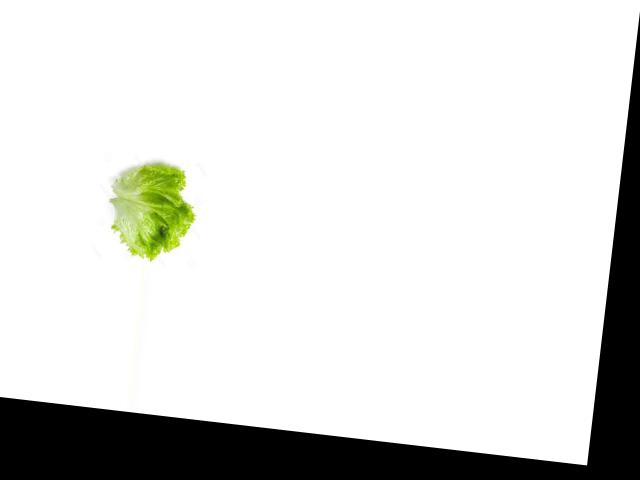lettuce: (101, 150, 198, 267)
